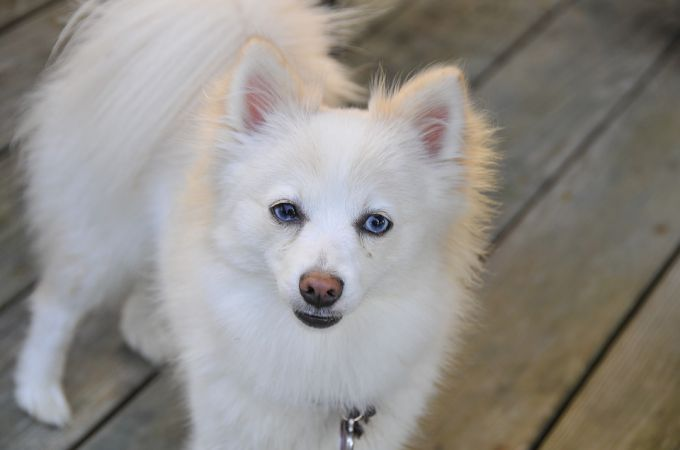pomeranian: (37, 7, 494, 450)
